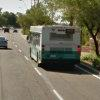Bus: (23, 19, 83, 70)
